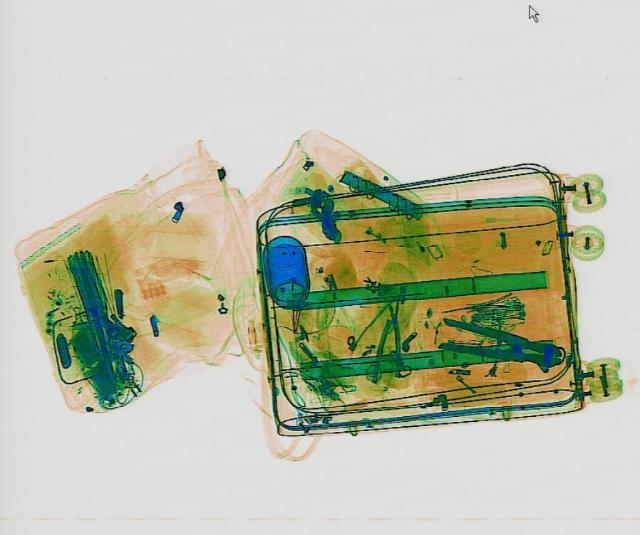Pliers: (430, 316, 566, 370)
